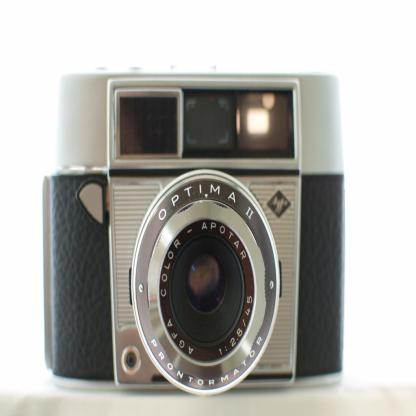Camera: (27, 64, 353, 406)
